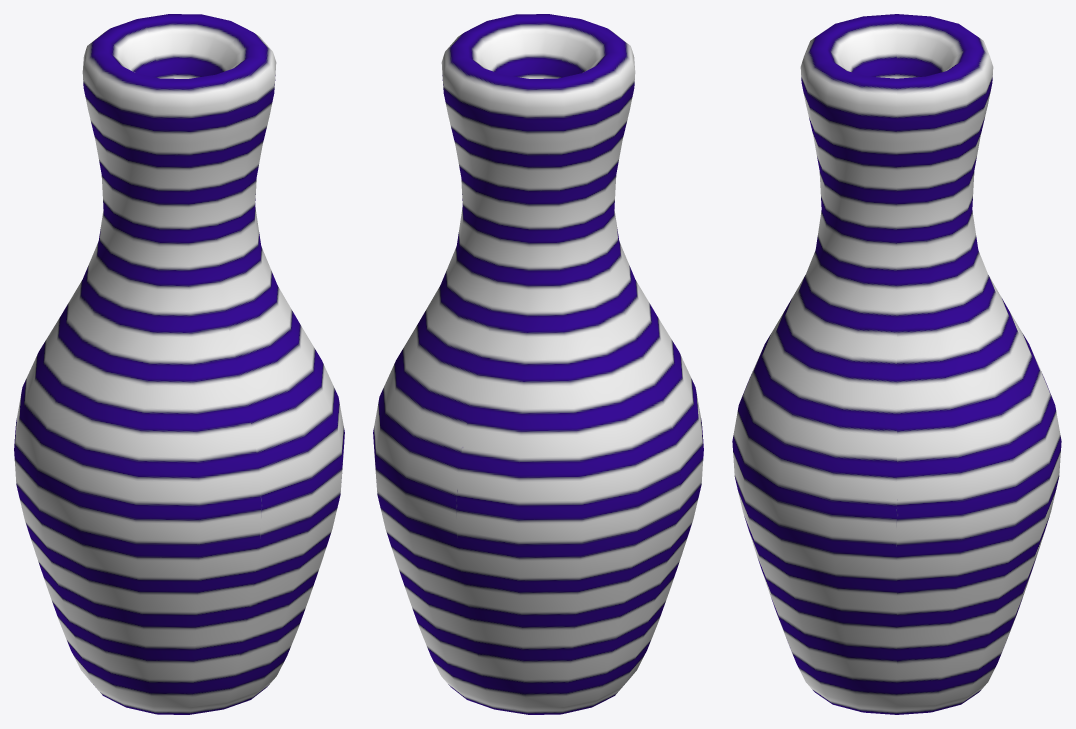
File: jarron.glb
3 renders of one model, left to right at view 1: azimuth 30°, elevation 25°; view 2: azimuth 150°, elevation 25°; view 3: azimuth 270°, elevation 25°, orthographic.
Visible parts, largest first — view 1: Cube; view 2: Cube; view 3: Cube.
Boxes of the visible parts, <box> form: Cube: <box>14,14,344,714</box>; Cube: <box>373,14,703,714</box>; Cube: <box>732,14,1061,714</box>.
Bounding box in the file's own units: 2.87 × 6.1 × 2.87.
Materials: 1 (1 with a texture image).
